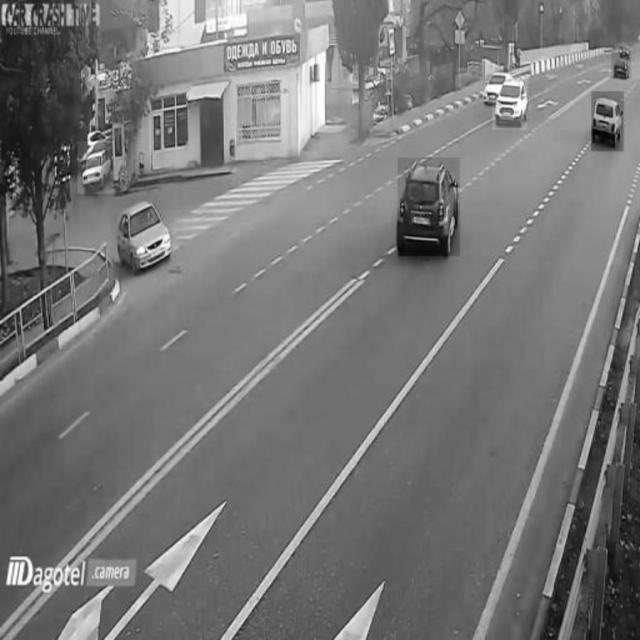vehicle: (399, 158, 461, 256), (112, 197, 173, 278), (492, 75, 528, 130), (592, 92, 624, 152), (78, 142, 114, 194), (612, 53, 632, 79)
